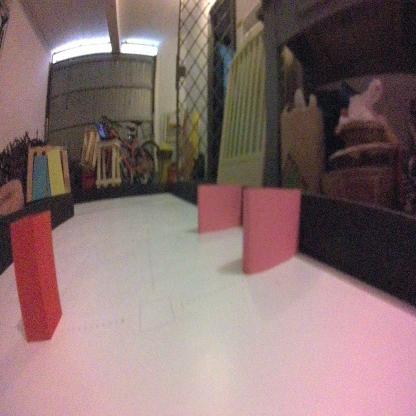magenta: (240, 190, 300, 278), (196, 181, 238, 233)
red: (8, 204, 65, 348)
